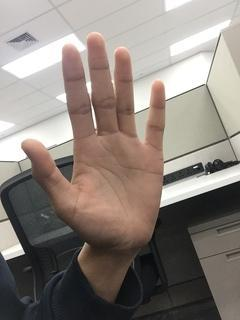hand: (22, 29, 169, 250)
